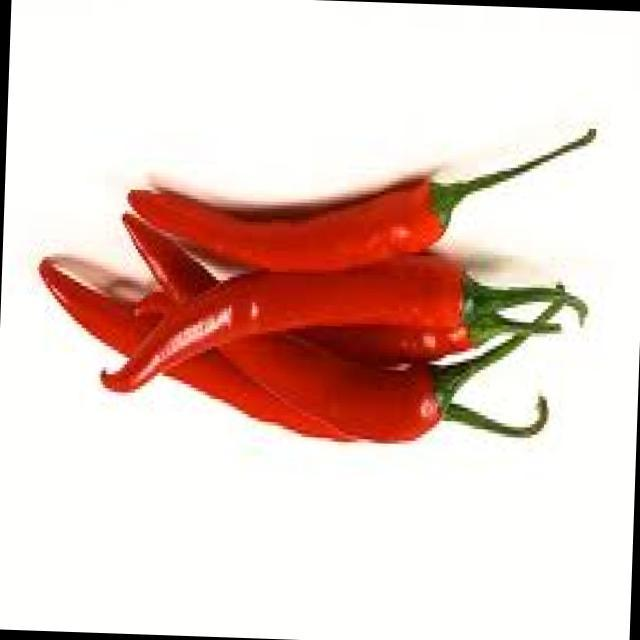Chili: (21, 126, 616, 468)
